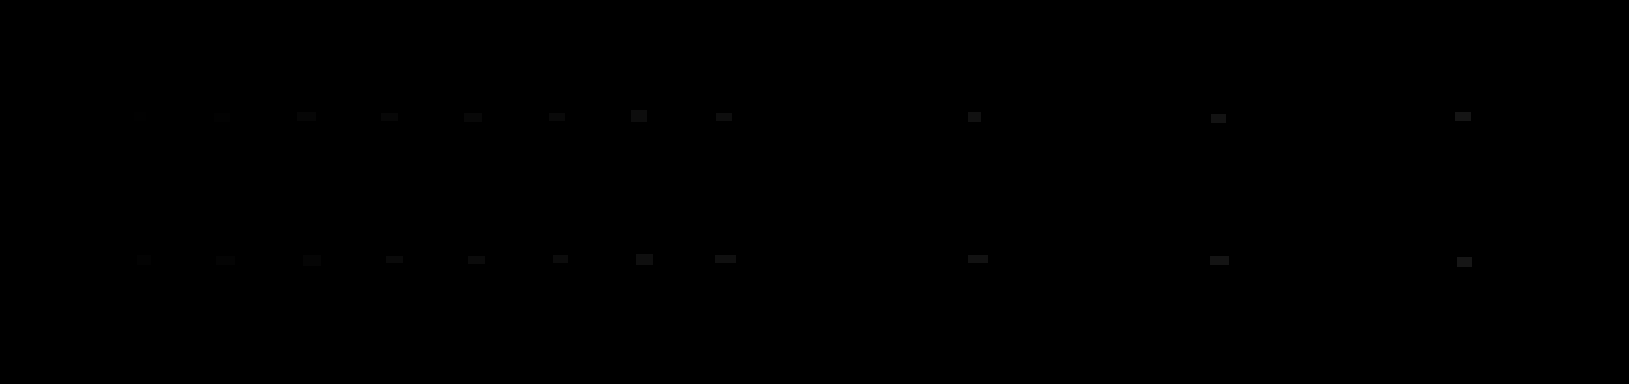light: (631, 110, 647, 122), (303, 255, 321, 266), (636, 254, 653, 265), (297, 112, 316, 121), (464, 113, 482, 122), (216, 256, 235, 265), (1210, 256, 1229, 265), (715, 255, 736, 263), (214, 113, 230, 122), (1456, 112, 1471, 121), (1457, 257, 1472, 267), (968, 255, 988, 263), (381, 113, 398, 121), (549, 113, 565, 121), (716, 113, 732, 121), (1211, 114, 1226, 124), (968, 112, 981, 122), (468, 256, 485, 264), (137, 255, 151, 265), (134, 112, 146, 121), (553, 255, 568, 263), (386, 256, 403, 263)
